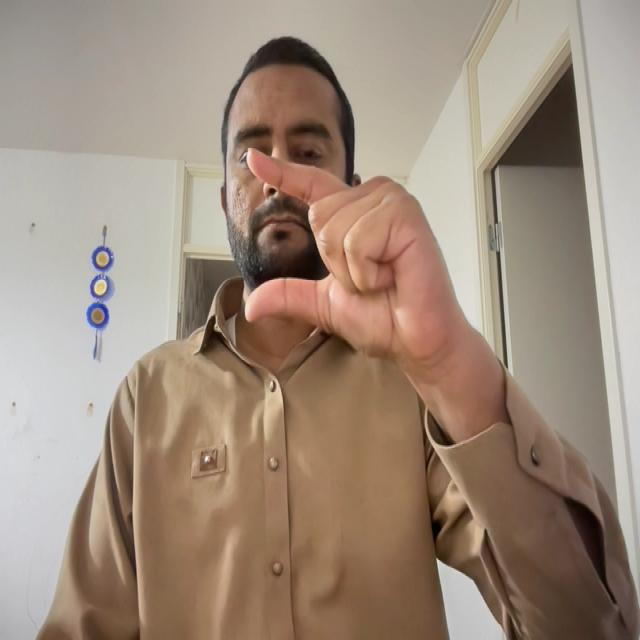No: (233, 128, 481, 366)
